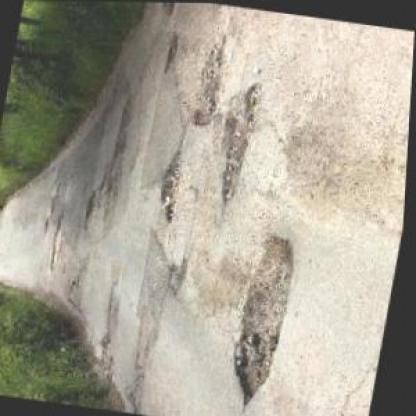pothole: (226, 229, 305, 406), (209, 76, 269, 207), (190, 42, 232, 126), (157, 145, 187, 222), (166, 252, 197, 296), (50, 214, 68, 271), (161, 28, 182, 70), (83, 187, 101, 230)
